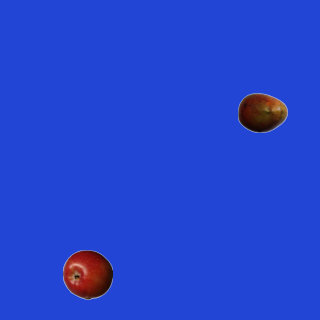Apple Braeburn: (62, 249, 112, 299)
Mango Red: (237, 87, 287, 137)
